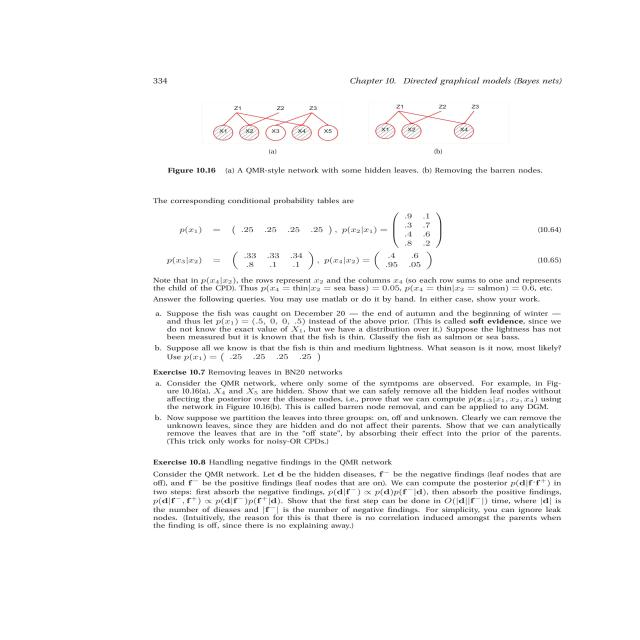diagram: (47, 88, 640, 178)
